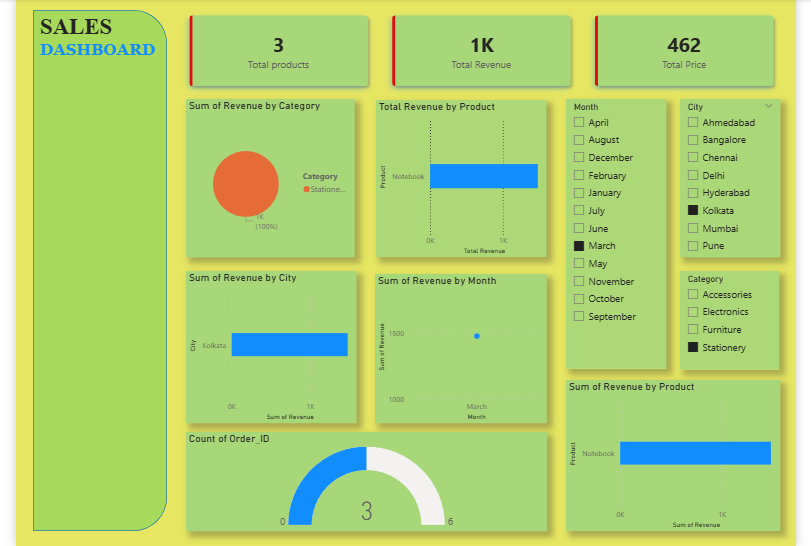

The page's visual inventory and layout, read from the dashboard file:
{"tool":"powerbi","page":{"name":"Page 2","canvas":[1280,900],"ordinal":1},"visuals":[{"type":"shape","box":[27.9,18.1,220.1,855.7],"z":0},{"type":"textbox","box":[34.5,18.1,198.7,67.3],"z":1000},{"type":"textbox","box":[34.5,62.4,220.1,44.3],"z":2000},{"type":"cardVisual","fields":{"Data":["cleaned_sales_data.Total products","Sum(cleaned_sales_data.Revenue)","Sum(cleaned_sales_data.Price)"]},"box":[263.3,5,1005,160],"z":3000},{"type":"slicer","fields":{"Values":["cleaned_sales_data.Category"]},"box":[1090,446.7,163.3,161.7],"z":4000},{"type":"slicer","fields":{"Values":["cleaned_sales_data.Month"]},"box":[903.3,165,165,443.3],"z":5000},{"type":"slicer","fields":{"Values":["cleaned_sales_data.City"]},"box":[1090,165,165,260],"z":6000},{"type":"pieChart","fields":{"Category":["cleaned_sales_data.Category"],"Y":["Sum(cleaned_sales_data.Revenue)"]},"box":[280,165,276.7,260],"z":7000},{"type":"clusteredBarChart","fields":{"Category":["cleaned_sales_data.Product"],"Y":["Sum(cleaned_sales_data.Revenue)"]},"box":[591.7,166.7,280,258.3],"z":8000},{"type":"clusteredBarChart","fields":{"Category":["cleaned_sales_data.City"],"Y":["Sum(cleaned_sales_data.Revenue)"]},"box":[280,446.7,280,250],"z":9000},{"type":"lineChart","fields":{"Category":["cleaned_sales_data.Month"],"Y":["Sum(cleaned_sales_data.Revenue)"]},"box":[590,451.7,281.7,245],"z":10000},{"type":"barChart","fields":{"Category":["cleaned_sales_data.Product"],"Y":["Sum(cleaned_sales_data.Revenue)"]},"box":[903.3,625,351.7,248.3],"z":11000},{"type":"gauge","fields":{"Y":["CountNonNull(cleaned_sales_data.Order_ID)"]},"box":[279.2,711.1,592.9,162.6],"z":12000}]}

Visuals, with their boxes on the page's 1280x900 design canvas (x1, y1, x2, y2). These are canvas units, not pixel positions in the 811x546 screenshot, which may show the page scaled, cropped or inside an application window:
shape: <region>28, 18, 248, 874</region>
textbox: <region>34, 18, 233, 85</region>
textbox: <region>34, 62, 255, 107</region>
cardVisual - cleaned_sales_data.Total products x Sum(cleaned_sales_data.Revenue): <region>263, 5, 1268, 165</region>
slicer - cleaned_sales_data.Category: <region>1090, 447, 1253, 608</region>
slicer - cleaned_sales_data.Month: <region>903, 165, 1068, 608</region>
slicer - cleaned_sales_data.City: <region>1090, 165, 1255, 425</region>
pieChart - cleaned_sales_data.Category x Sum(cleaned_sales_data.Revenue): <region>280, 165, 557, 425</region>
clusteredBarChart - cleaned_sales_data.Product x Sum(cleaned_sales_data.Revenue): <region>592, 167, 872, 425</region>
clusteredBarChart - cleaned_sales_data.City x Sum(cleaned_sales_data.Revenue): <region>280, 447, 560, 697</region>
lineChart - cleaned_sales_data.Month x Sum(cleaned_sales_data.Revenue): <region>590, 452, 872, 697</region>
barChart - cleaned_sales_data.Product x Sum(cleaned_sales_data.Revenue): <region>903, 625, 1255, 873</region>
gauge - CountNonNull(cleaned_sales_data.Order_ID): <region>279, 711, 872, 874</region>
